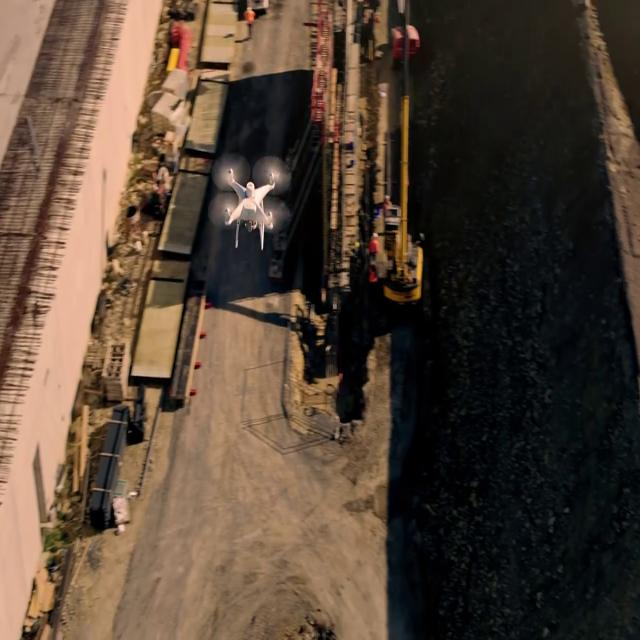drone: (208, 149, 294, 249)
